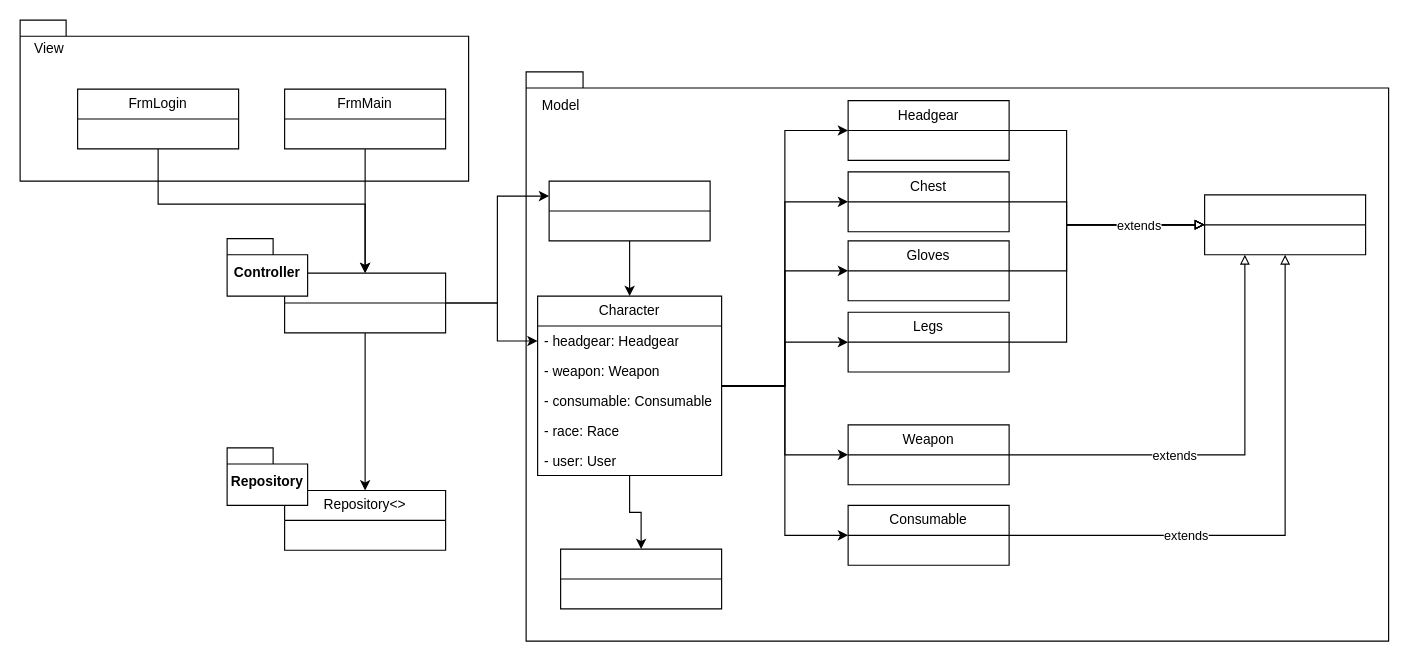
Image size: 1409x661. Some labels were removed from this diagram. The shapes that lost their labels are listed below. From the top down, each one's centre as x and y in pixels, then its label:
At (629,210): "User".
At (1284,224): "Item".
At (364,302): "Controller<>".
At (640,578): "Race".
